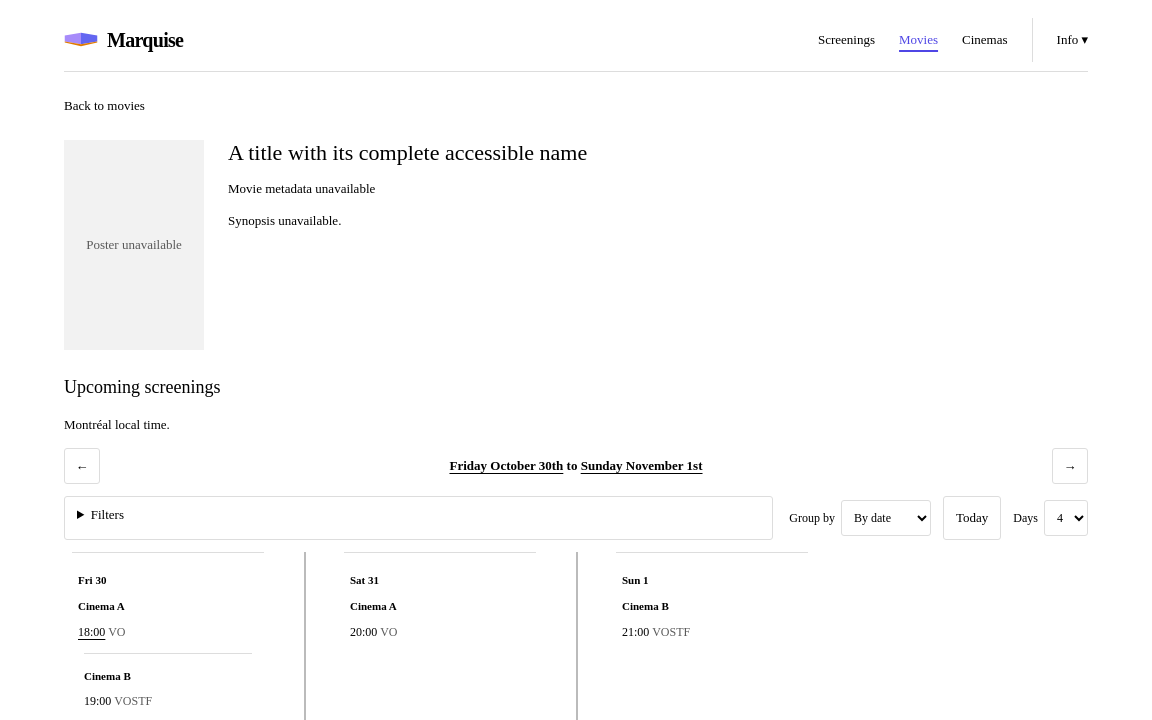
Test: keeps the date columns when grouping the schedule by cinema
Expected: the link "18:00" is shown, [78,625,105,639]
Select "By cinema" in the dropdown named "Group schedule by". click: (886, 518)
box: [841,500,931,536]
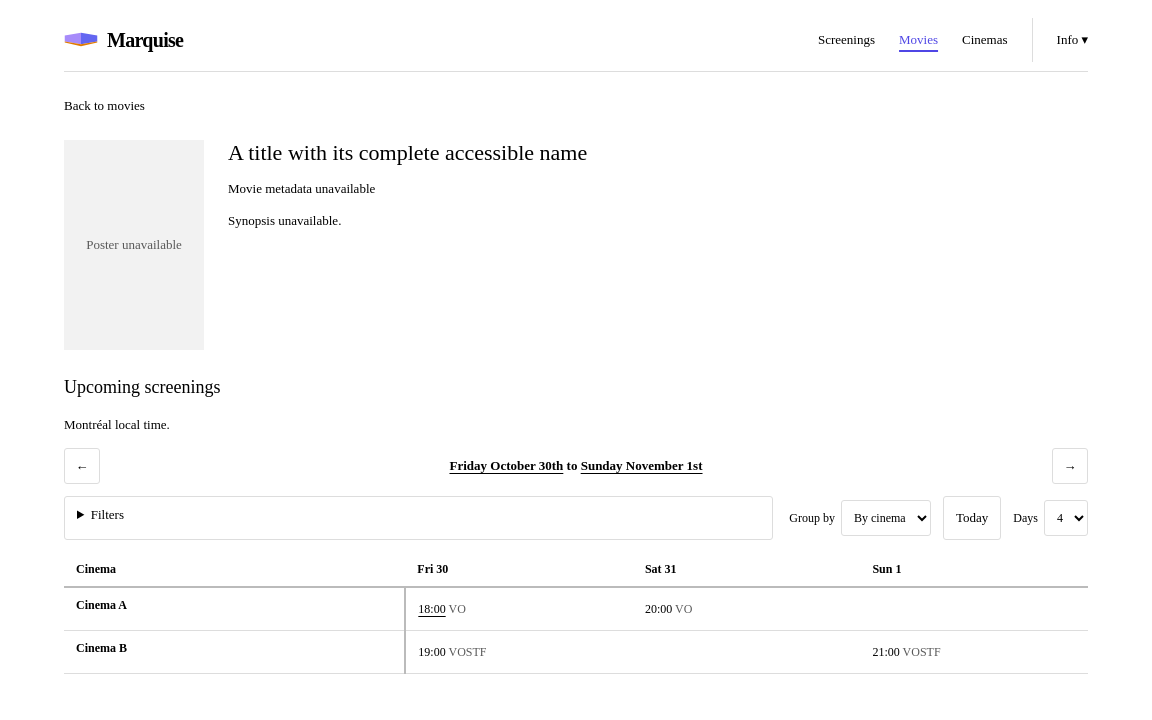
Result: the row "Cinema A 18:00 VO 20:00 VO" is shown at [64,587,1088,630]
Result: the row "Cinema B 19:00 VOSTF 21:00 VOSTF" is shown at [64,630,1088,673]
